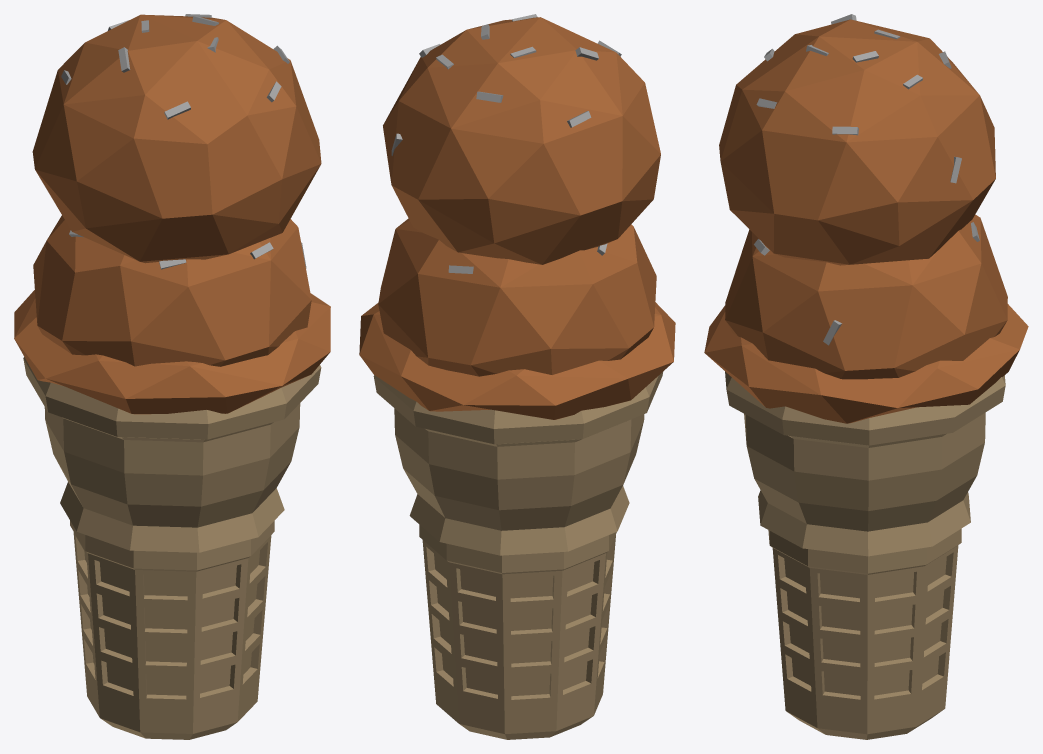
Rendered from icecream-4-dacdf71cae.glb.
The picture shows the model from 3 angles, left to right: view 1: azimuth 30°, elevation 25°; view 2: azimuth 150°, elevation 25°; view 3: azimuth 270°, elevation 25°; orthographic projection.
Visible parts, largest first — view 1: IceCream_4.obj; view 2: IceCream_4.obj; view 3: IceCream_4.obj.
Part boxes in pixels (bbox=[...]): IceCream_4.obj: bbox=[14, 14, 330, 739]; IceCream_4.obj: bbox=[359, 14, 675, 739]; IceCream_4.obj: bbox=[704, 14, 1028, 739].
Bounding box in the file's own units: 0.5155 × 1.18 × 0.5155.
